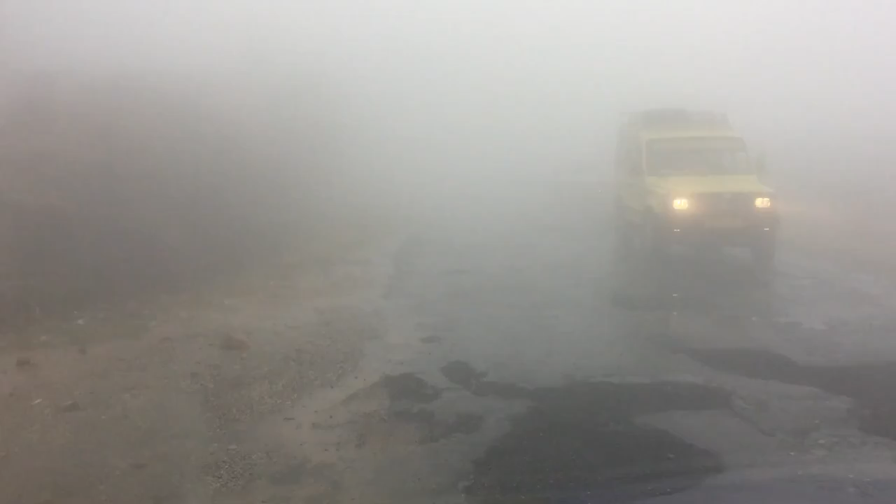car: (613, 105, 779, 264)
